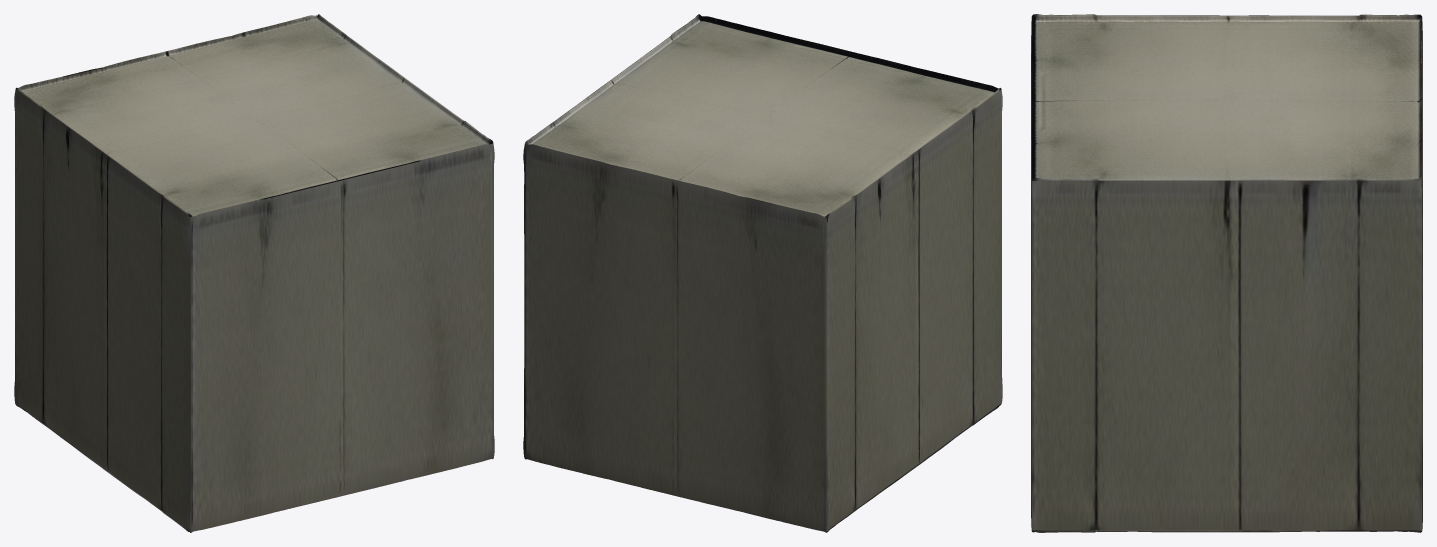
File: floor-concrete.glb
The picture shows the model from 3 angles, left to right: view 1: azimuth 30°, elevation 25°; view 2: azimuth 150°, elevation 25°; view 3: azimuth 270°, elevation 25°; orthographic projection. The views are drawn at different scales.
Parts seen in each view (by area): view 1: tmp28ken5w8.ply; view 2: tmp28ken5w8.ply; view 3: tmp28ken5w8.ply.
Part boxes in pixels (<box>): tmp28ken5w8.ply: <box>14,14,494,532</box>; tmp28ken5w8.ply: <box>523,14,1002,532</box>; tmp28ken5w8.ply: <box>1031,14,1422,532</box>.
Bounding box in the file's own units: 1 × 1 × 1.
1 material, 1 textured.
